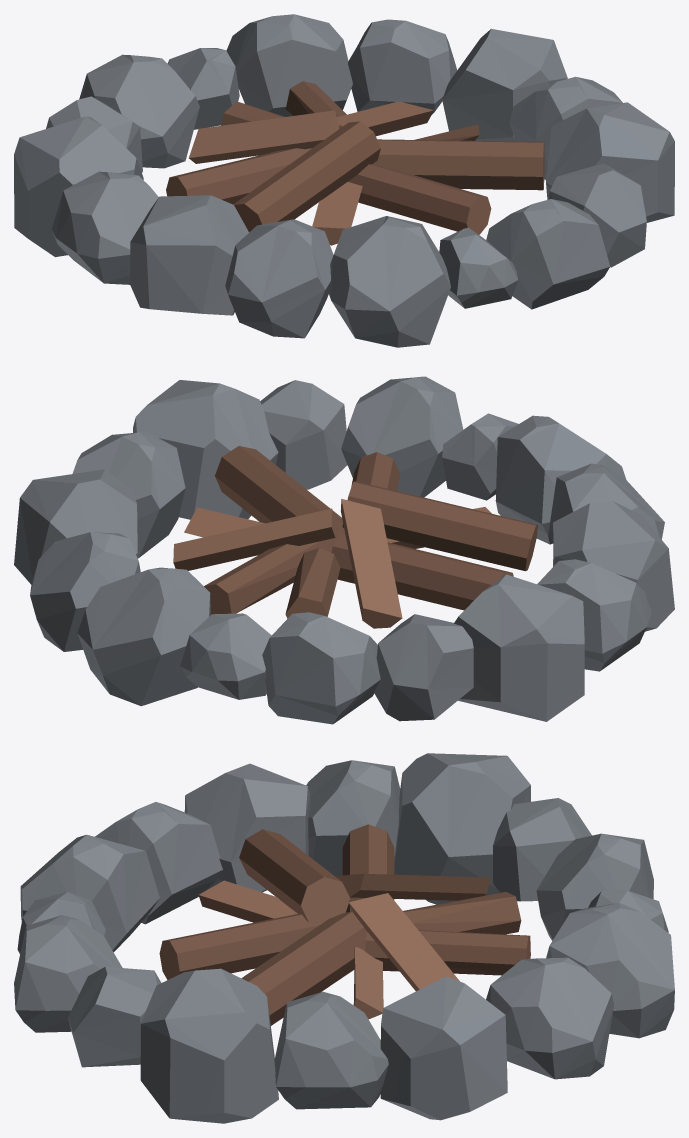
The model's file is Fireplace_01.fbx.
3 views of the same model, one above another, from view 1: azimuth 30°, elevation 25°; view 2: azimuth 150°, elevation 25°; view 3: azimuth 270°, elevation 25° (orthographic). The views are drawn at different scales.
Parts seen in each view (by area): view 1: Fireplace_01; view 2: Fireplace_01; view 3: Fireplace_01.
Boxes of the visible parts, x1,y1,x2,y2 form: Fireplace_01: (14, 14, 674, 347); Fireplace_01: (14, 376, 674, 724); Fireplace_01: (14, 753, 674, 1123).
Bounding box in the file's own units: 91.59 × 19.24 × 88.44.
